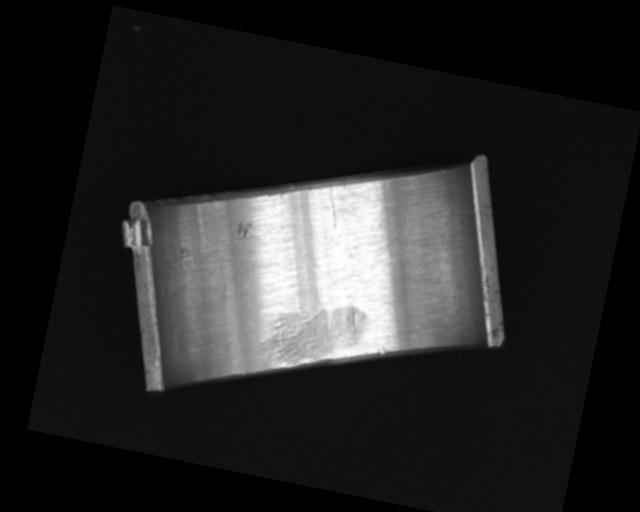bruise: (234, 217, 253, 239), (376, 346, 387, 356)
nick: (320, 183, 345, 230)
scratch: (256, 289, 371, 382)
